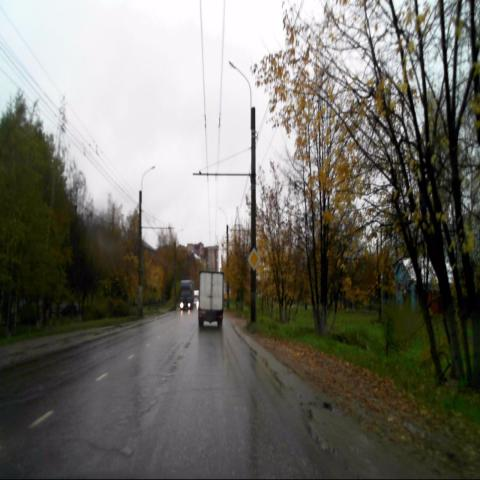2_1: (248, 246, 260, 270)
